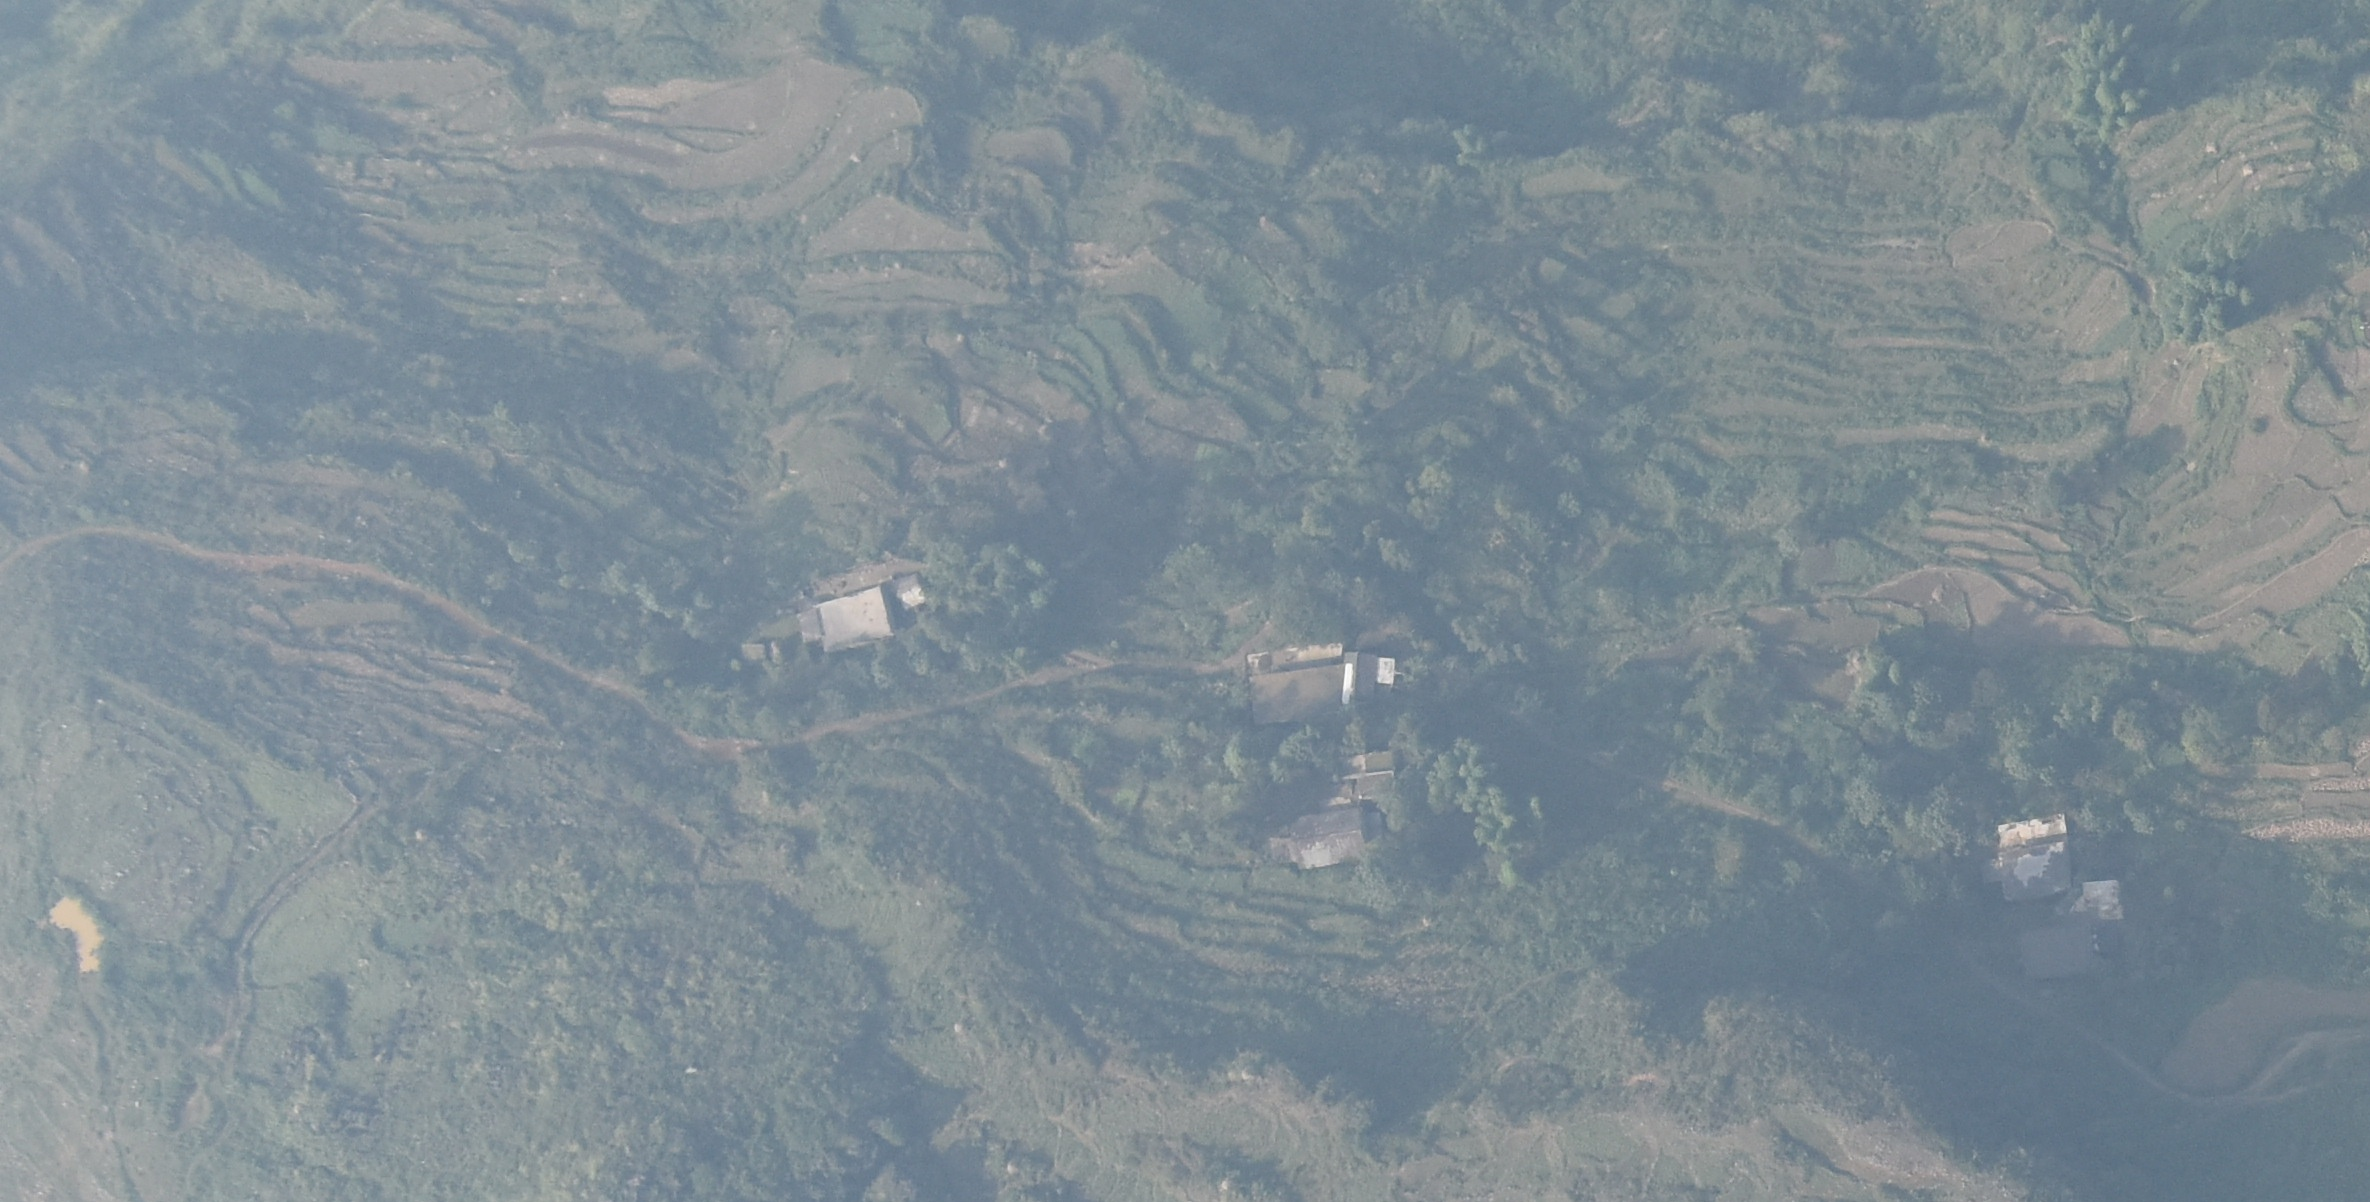building: (1242, 636, 1401, 731), (1973, 810, 2079, 901), (783, 586, 894, 656), (1285, 803, 1367, 868), (2014, 920, 2096, 984), (2068, 874, 2125, 918), (894, 573, 931, 609), (737, 635, 771, 672)
